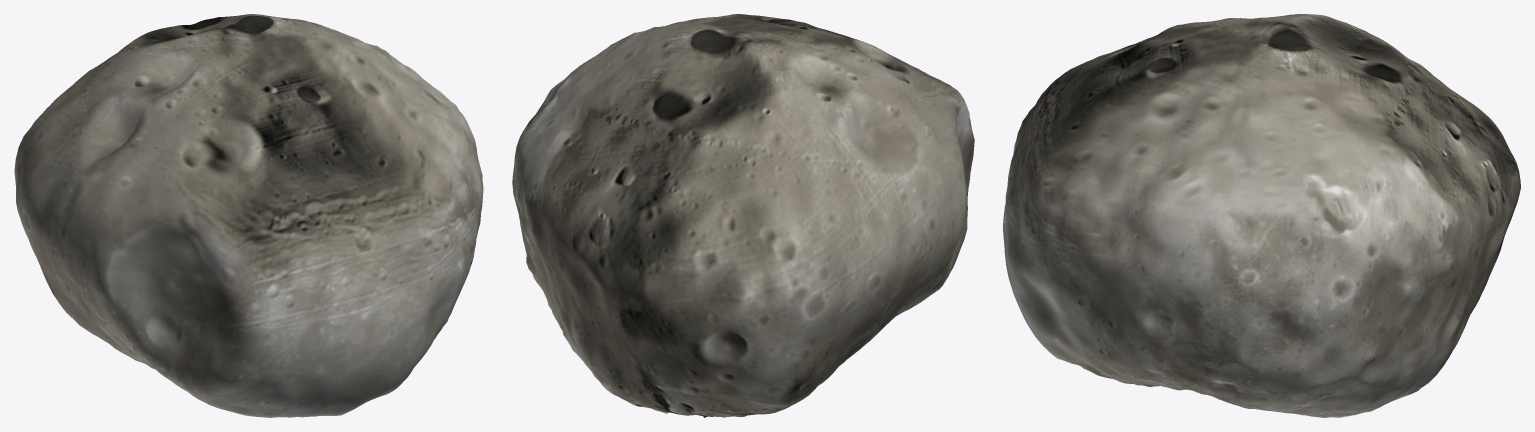
The model's file is phobos-nasa.glb.
3 views of the same model, side by side, from view 1: azimuth 30°, elevation 25°; view 2: azimuth 150°, elevation 25°; view 3: azimuth 270°, elevation 25° (orthographic). The views are drawn at different scales.
Parts seen in each view (by area): view 1: phobos; view 2: phobos; view 3: phobos.
Boxes of the visible parts, left/top/right/bottom form: phobos: left=14, top=14, right=483, bottom=417; phobos: left=512, top=14, right=974, bottom=417; phobos: left=1003, top=14, right=1520, bottom=417.
Size of the model in its own units: 24.37 by 20.52 by 27.04.
1 material, 1 textured.
